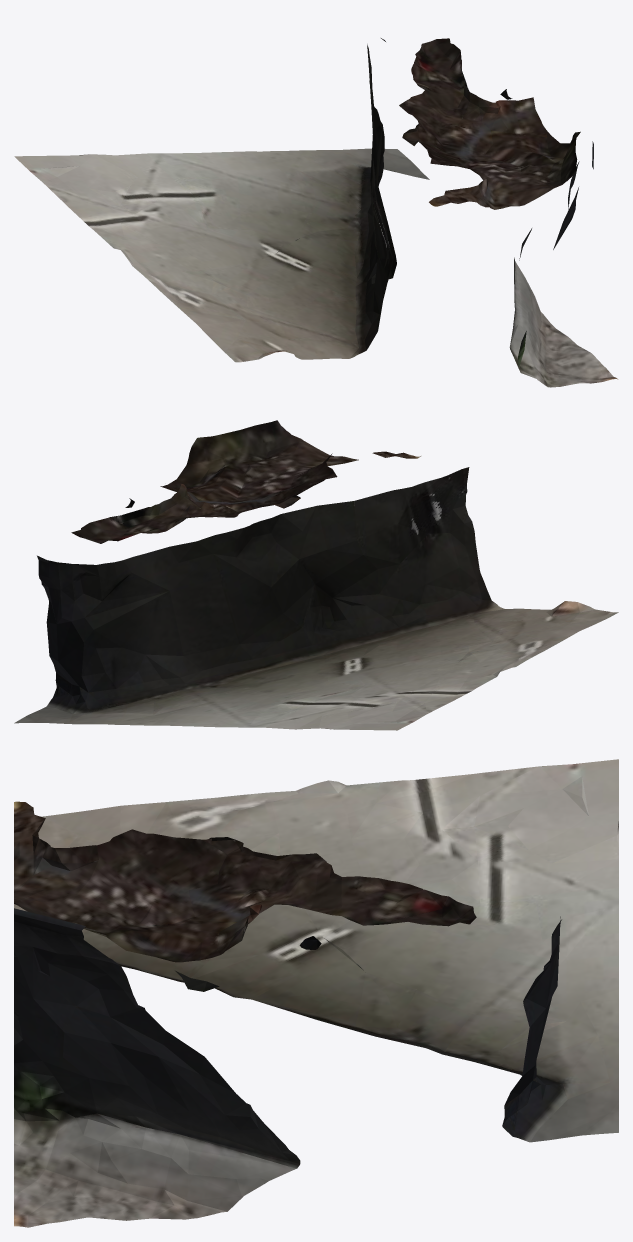
The picture shows the model from 3 angles, top to bottom: view 1: azimuth 30°, elevation 25°; view 2: azimuth 150°, elevation 25°; view 3: azimuth 270°, elevation 25°; orthographic projection. The views are drawn at different scales.
Bounding box in the file's own units: 0.8374 × 0.4605 × 0.8373.
4 materials, 4 textured.
